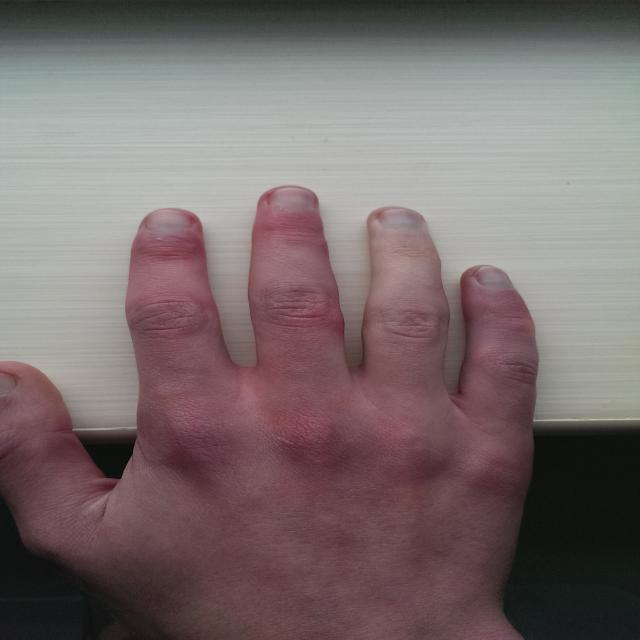raynauds: (228, 177, 364, 424), (107, 207, 250, 394), (355, 195, 458, 429), (458, 265, 547, 468)
